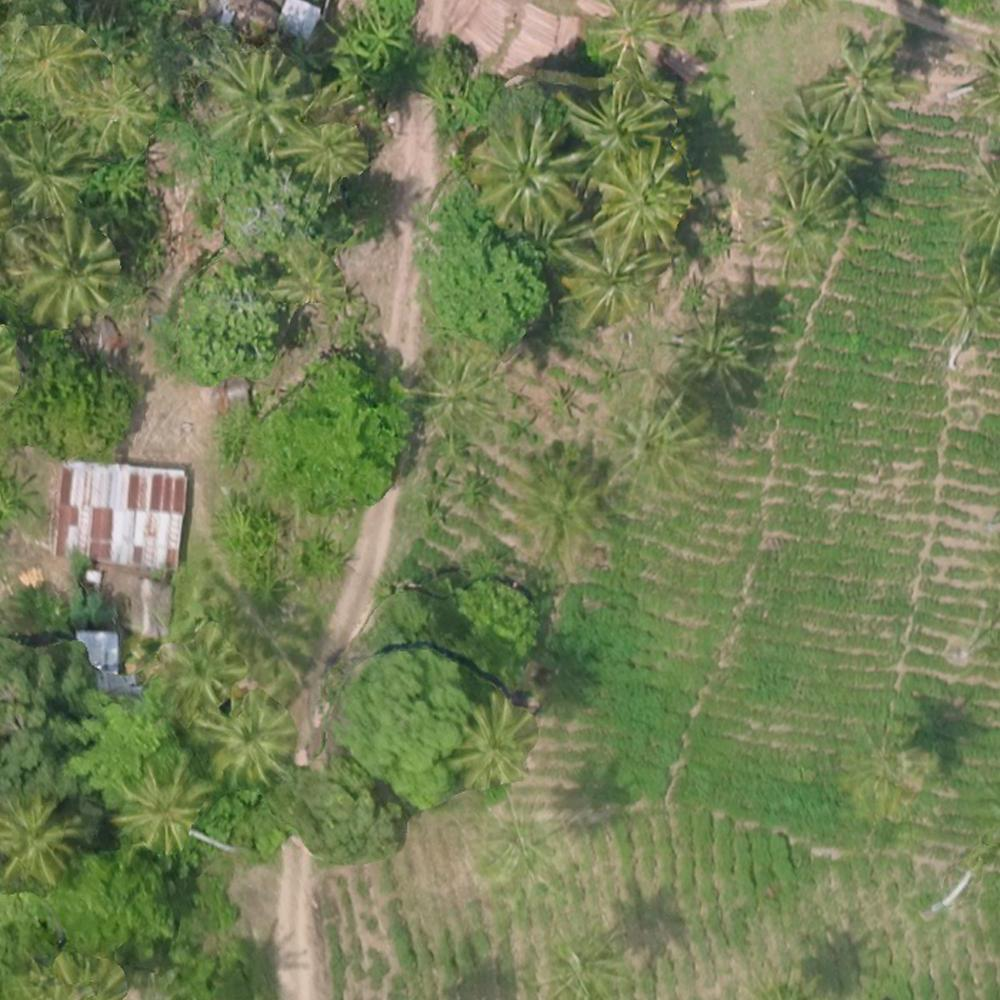Palm: (478, 113, 588, 227), (17, 217, 121, 326), (560, 228, 664, 323), (754, 177, 851, 272), (563, 85, 672, 168), (812, 40, 905, 133), (195, 695, 291, 784), (777, 102, 874, 186), (111, 766, 203, 852), (598, 159, 694, 240), (210, 48, 291, 143), (454, 696, 538, 782), (4, 127, 85, 215), (920, 254, 1000, 337), (4, 800, 78, 888), (5, 22, 83, 105), (591, 4, 679, 73), (295, 117, 371, 181)
